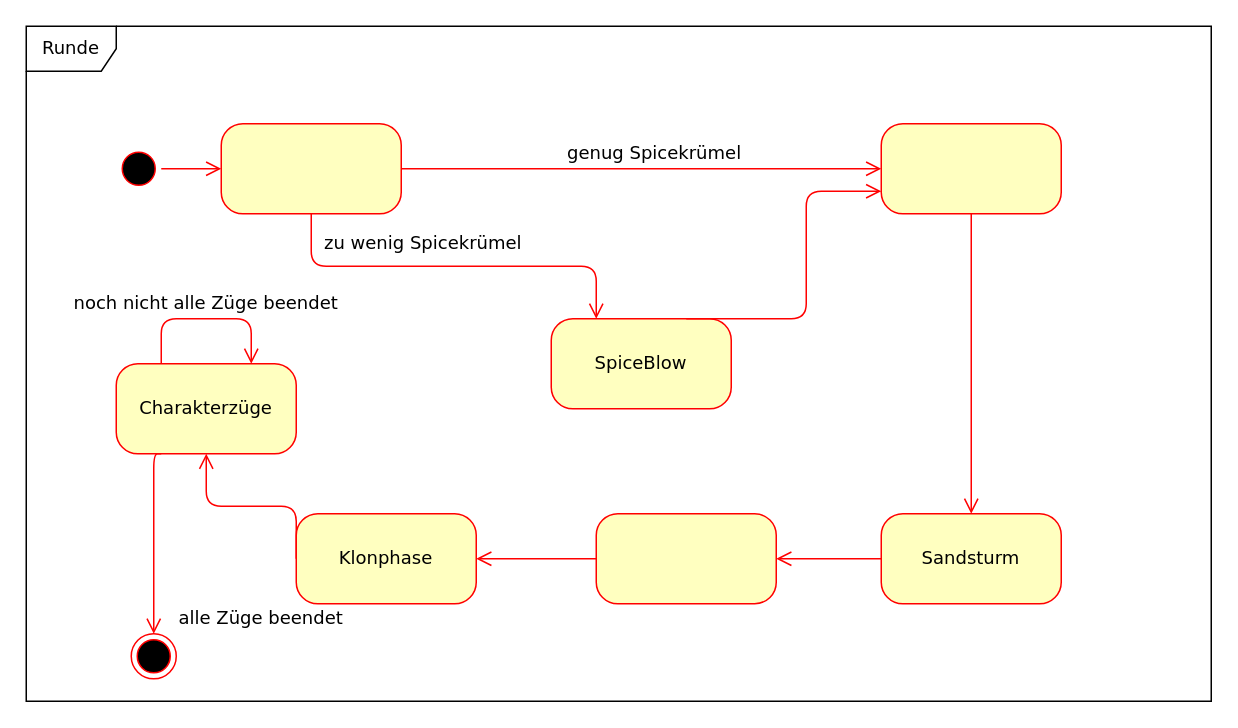
The diagram is 1238 pixels wide and 728 high, and some of its shapes have lost their labels. The shapes that lost their labels are listed below. From the top down, each one's centre as x and y in pixels, then its label:
At (310,168): "Rundenbeginn".
At (970,168): "Dünenwanderung".
At (685,558): "Sandwurm".
